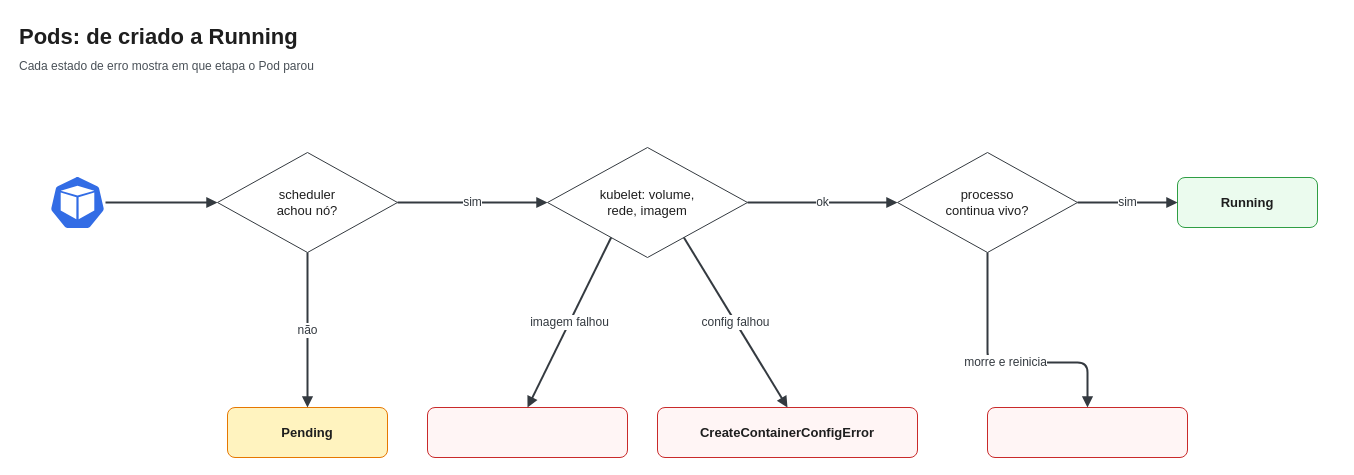
This 1354x475 diagram has some shape labels left out. The shapes that lost their labels are listed below. From the top down, each one's box as (x1, y1, x2, y2) in pixels, then its label:
(48, 174, 106, 230): Pod criado
(426, 406, 628, 458): ImagePullBackOff
(986, 406, 1188, 458): CrashLoopBackOff
